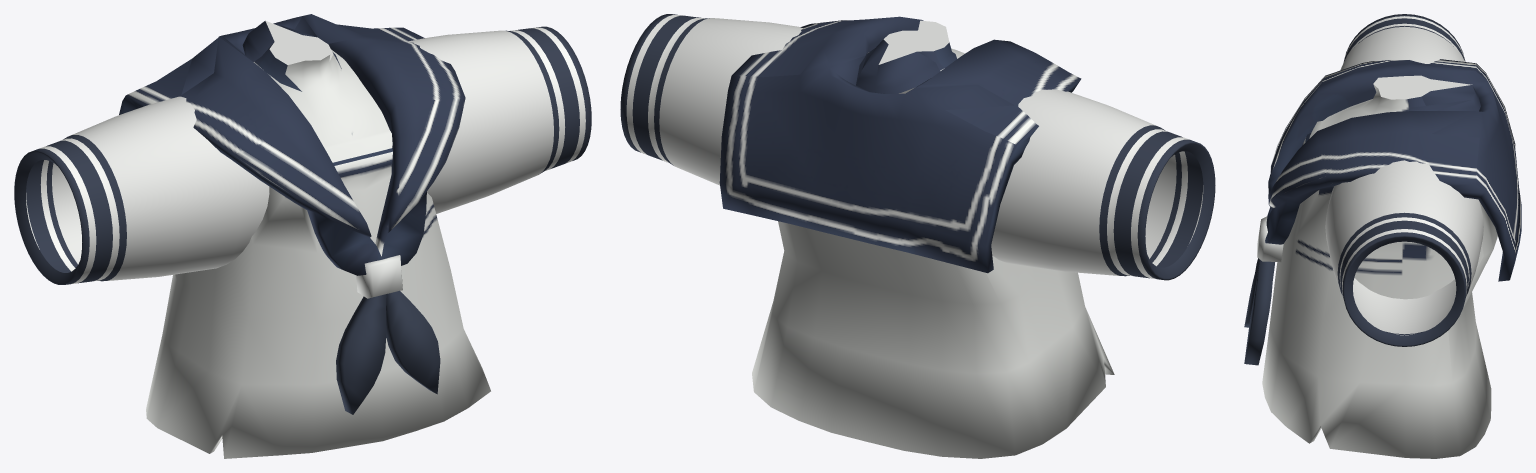
File: sailor-girl-top.glb
3 views of the same model, side by side, from view 1: azimuth 30°, elevation 25°; view 2: azimuth 150°, elevation 25°; view 3: azimuth 270°, elevation 25° (orthographic). The views are drawn at different scales.
Visible parts, largest first — view 1: Sailor_top; view 2: Sailor_top; view 3: Sailor_top.
Part boxes in pixels (<box>): Sailor_top: <box>14,14,591,458</box>; Sailor_top: <box>620,14,1215,458</box>; Sailor_top: <box>1244,14,1521,458</box>.
Bounding box in the file's own units: 1.62 × 1.09 × 0.8573.
4 materials, 1 textured.
